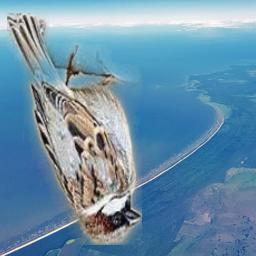Sparrow: (7, 13, 142, 245)
